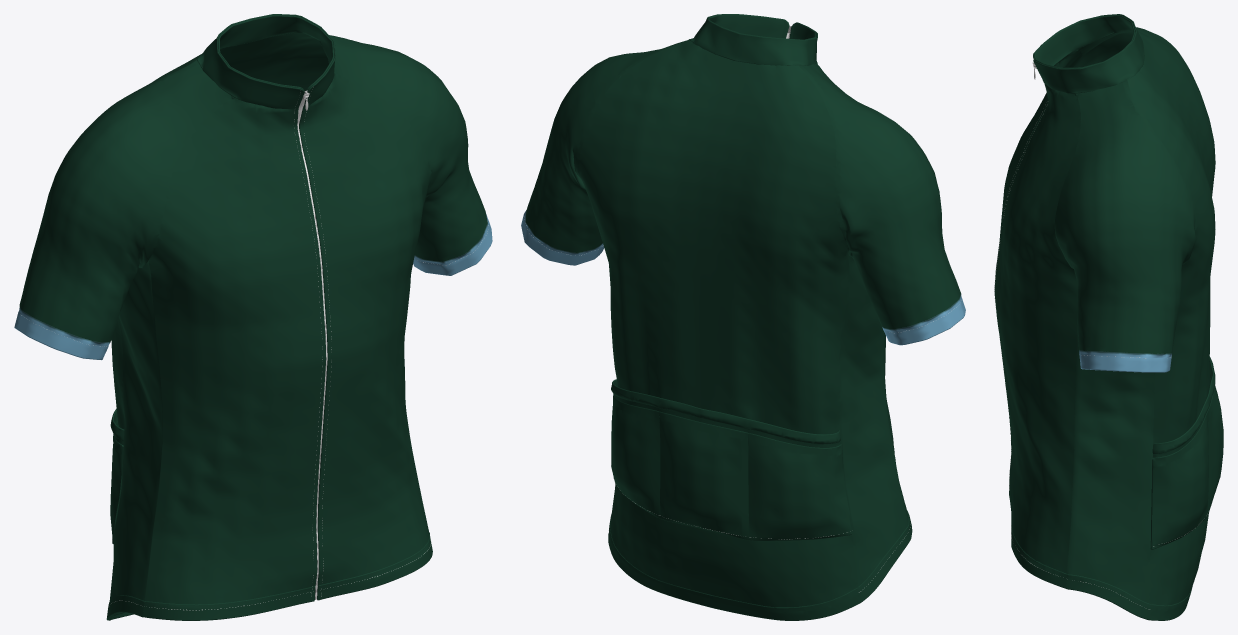
Rendered from jersey.glb.
The picture shows the model from 3 angles, left to right: view 1: azimuth 30°, elevation 25°; view 2: azimuth 150°, elevation 25°; view 3: azimuth 270°, elevation 25°; orthographic projection. The views are drawn at different scales.
Visible parts, largest first — view 1: Object_11, Object_12, Object_13, Object_10, Object_4, Object_14, Object_8, Object_3, Object_6, Object_21, Object_17; view 2: Object_3, Object_13, Object_11, Object_10, Object_4, Object_14, Object_5, Object_6; view 3: Object_12, Object_10, Object_3, Object_13, Object_14, Object_11, Object_6.
Boxes of the visible parts, x1=… form: Object_11: x1=19, y1=60, x2=325, y2=604; Object_12: x1=300, y1=74, x2=432, y2=599; Object_13: x1=14, y1=38, x2=411, y2=619; Object_10: x1=110, y1=35, x2=492, y2=620; Object_4: x1=110, y1=33, x2=328, y2=543; Object_14: x1=14, y1=16, x2=332, y2=360; Object_8: x1=299, y1=74, x2=431, y2=600; Object_3: x1=111, y1=54, x2=201, y2=445; Object_6: x1=197, y1=14, x2=335, y2=109; Object_21: x1=297, y1=91, x2=327, y2=599; Object_17: x1=145, y1=97, x2=326, y2=596; Object_3: x1=578, y1=40, x2=857, y2=607; Object_13: x1=608, y1=18, x2=965, y2=620; Object_11: x1=799, y1=62, x2=960, y2=522; Object_10: x1=521, y1=40, x2=912, y2=537; Object_4: x1=748, y1=433, x2=852, y2=540; Object_14: x1=710, y1=15, x2=965, y2=345; Object_5: x1=610, y1=433, x2=859, y2=620; Object_6: x1=613, y1=14, x2=817, y2=518; Object_12: x1=994, y1=31, x2=1150, y2=619; Object_10: x1=1054, y1=81, x2=1196, y2=371; Object_3: x1=1128, y1=28, x2=1215, y2=605; Object_13: x1=1033, y1=26, x2=1223, y2=620; Object_14: x1=1035, y1=16, x2=1133, y2=65; Object_11: x1=995, y1=27, x2=1171, y2=270; Object_6: x1=1033, y1=14, x2=1207, y2=549.
Bounding box in the file's own units: 623 × 768 × 291.
Materials: 6 (6 with a texture image).
